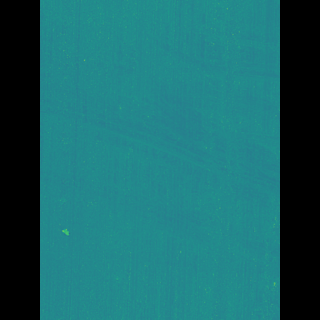Loch: (74, 0, 249, 214)
